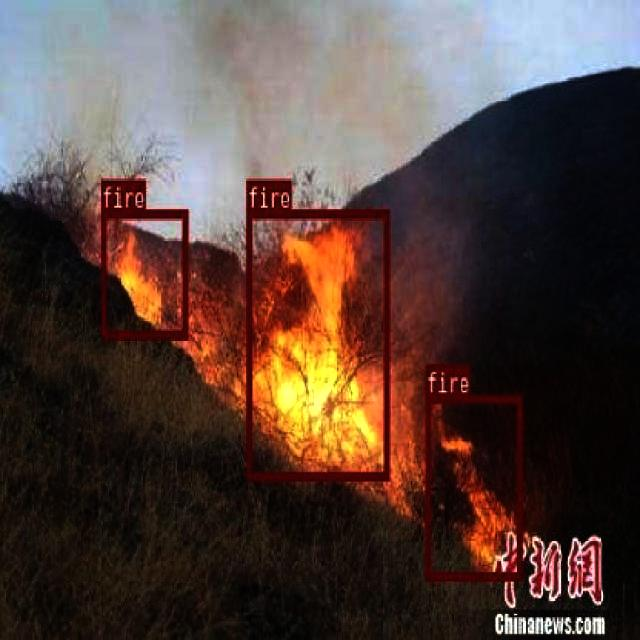fire: (246, 209, 388, 480), (425, 394, 521, 578), (100, 208, 186, 337)
